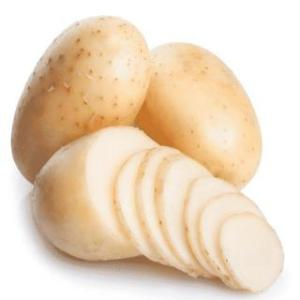potato: (32, 126, 279, 290), (11, 16, 150, 186), (136, 43, 262, 187)
